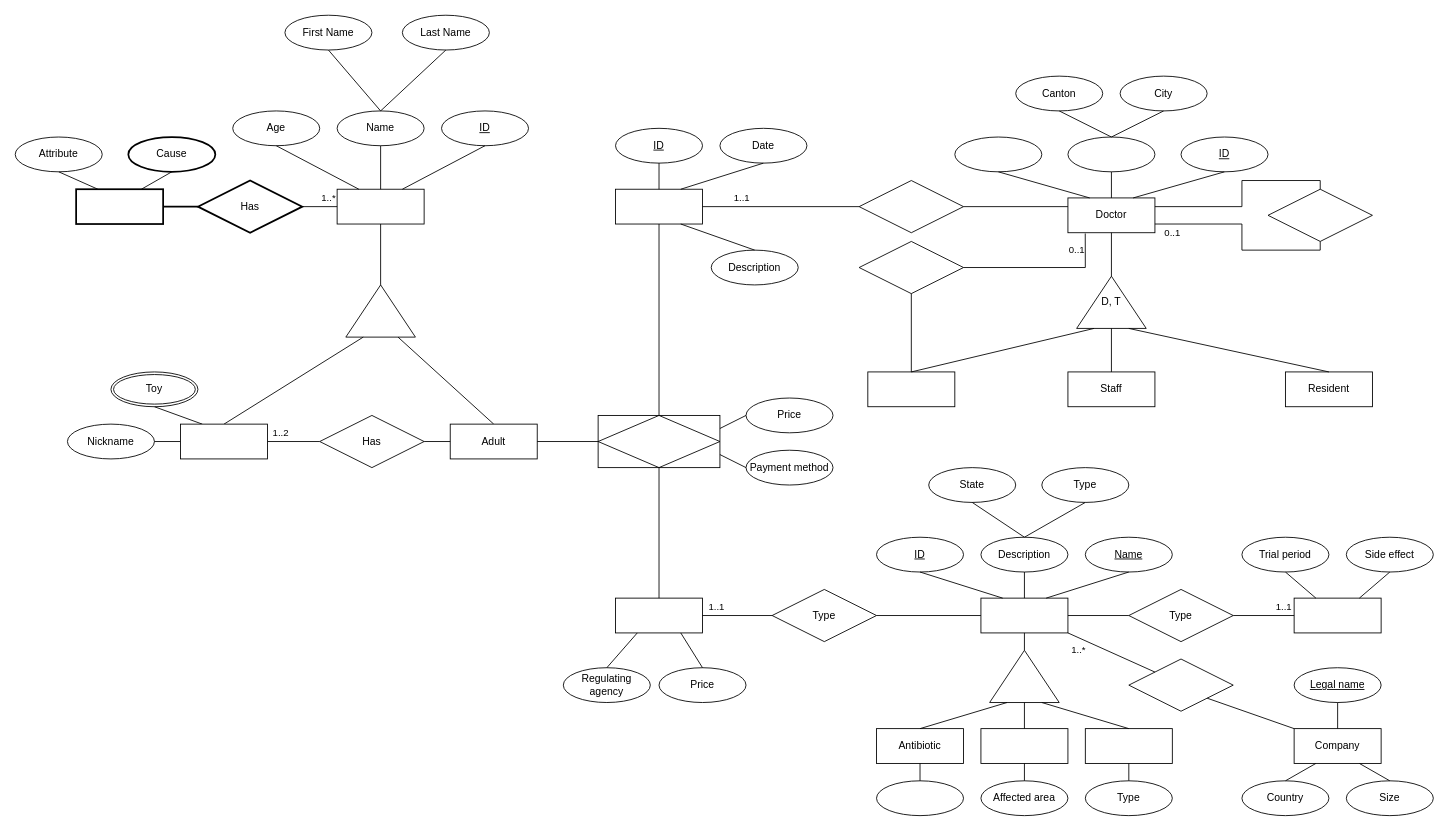
The diagram is 1449 pixels wide and 831 high, and some of its shapes have lost their labels. Here are the shapes that lost their labels. From the top down, the box of each, then its label:
(954, 136, 1042, 172): SSN
(1067, 136, 1155, 172): Location
(75, 188, 164, 224): Symptom
(336, 188, 424, 224): Patient
(615, 188, 703, 224): Presciption
(858, 180, 964, 233): Issues
(1267, 188, 1372, 241): Works with
(858, 241, 964, 294): Monitors
(345, 284, 415, 337): ISA
(867, 371, 955, 407): Manager
(180, 423, 268, 459): Child
(597, 415, 720, 468): Buy
(615, 597, 703, 633): Regulated
(980, 597, 1068, 633): Medicine
(1293, 597, 1381, 633): Experimental
(989, 649, 1059, 703): O, T
(1128, 658, 1233, 711): Created by
(980, 728, 1068, 763): Painkiller
(1084, 728, 1172, 763): Other
(876, 780, 964, 816): Duration
